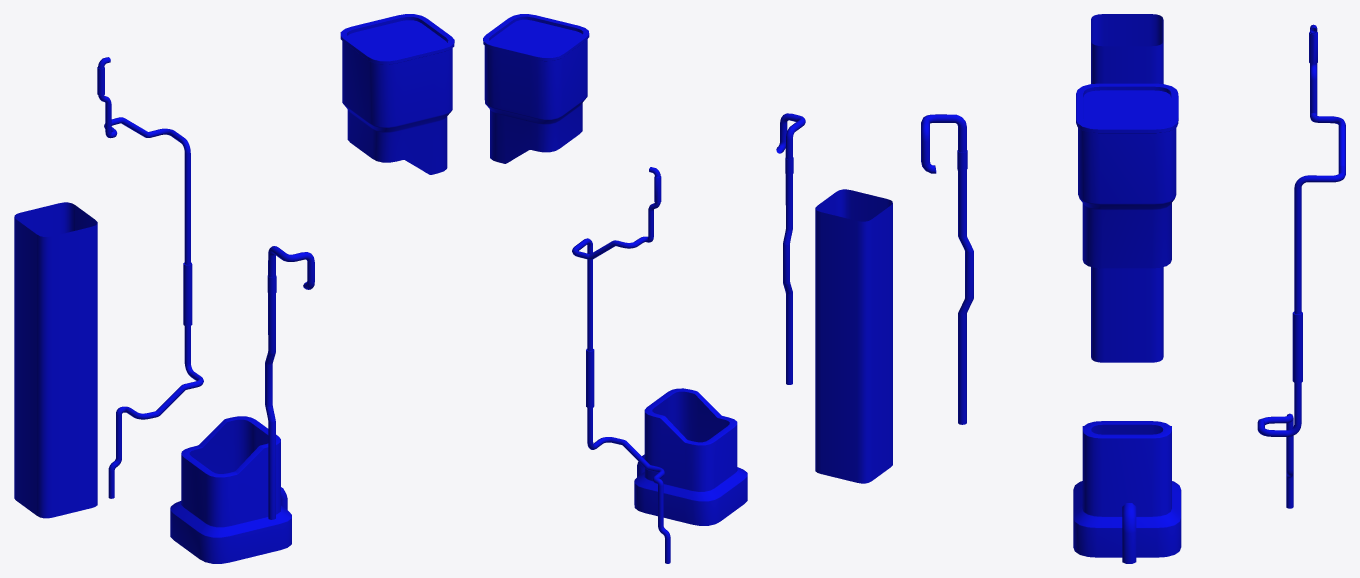
The model's file is Pillar_Low.FBX.
3 renders of one model, left to right at view 1: azimuth 30°, elevation 25°; view 2: azimuth 150°, elevation 25°; view 3: azimuth 270°, elevation 25°, orthographic. The views are drawn at different scales.
Visible parts, largest first — view 1: Pillar_1_Low_EXP; view 2: Pillar_1_Low_EXP; view 3: Pillar_1_Low_EXP.
Part boxes in pixels (bbox=[...]): Pillar_1_Low_EXP: bbox=[14, 14, 454, 563]; Pillar_1_Low_EXP: bbox=[483, 14, 892, 563]; Pillar_1_Low_EXP: bbox=[921, 14, 1345, 563].
Size of the model in its own units: 122 by 130 by 96.34.
